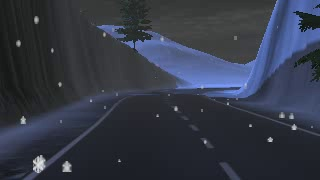Lane: (27, 86, 319, 179)
